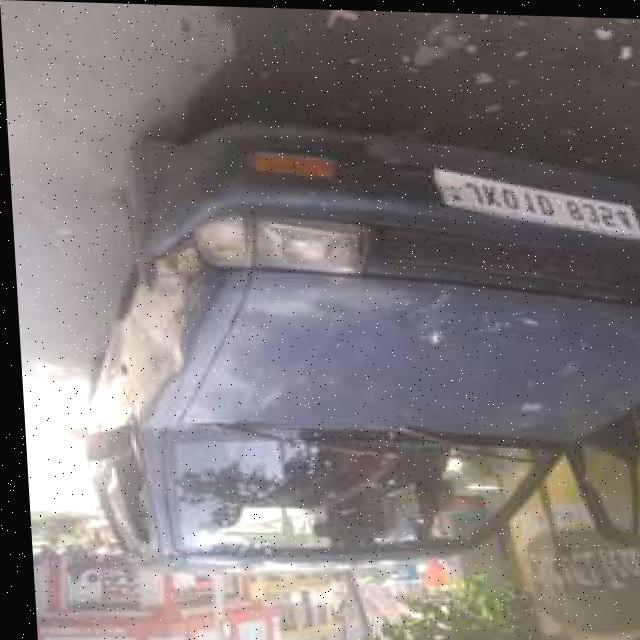plate: (428, 165, 640, 237)
